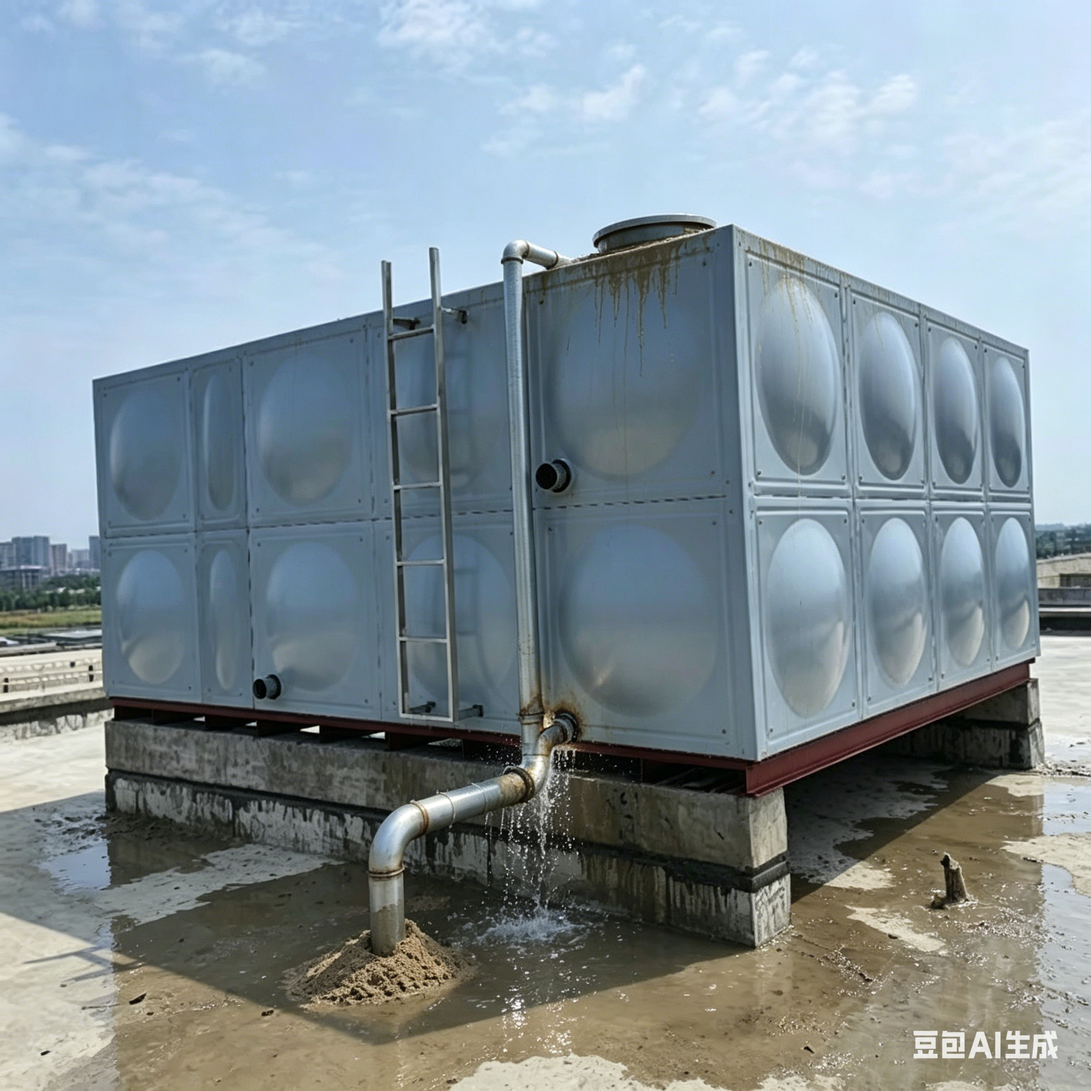Leakage: (598, 784, 900, 1091), (88, 913, 473, 1083), (917, 778, 1089, 1091), (485, 694, 590, 1059), (527, 217, 716, 309), (225, 848, 497, 911), (48, 818, 144, 888)
